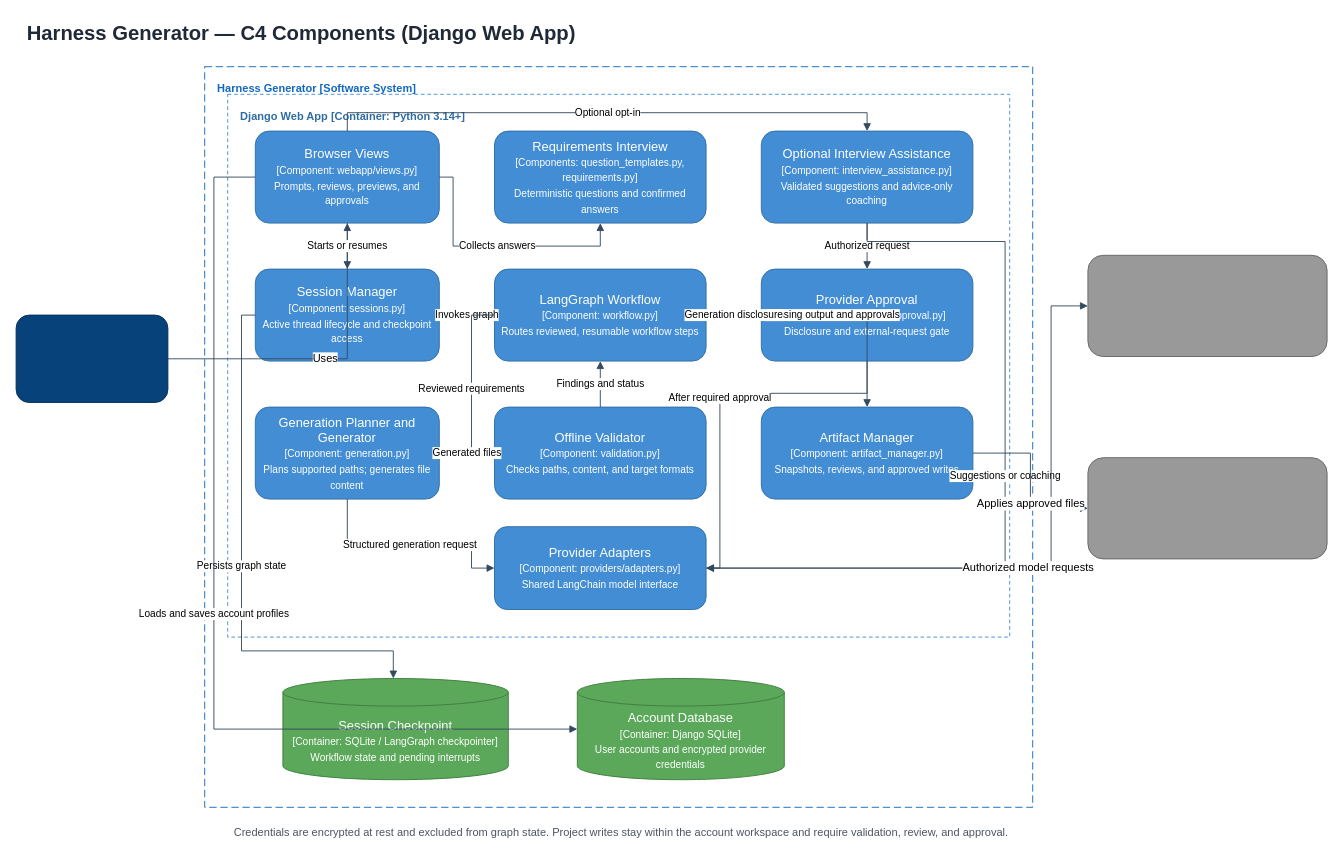
The diagram is 1343 pixels wide and 864 high, and some of its shapes have lost their labels. Here are the shapes that lost their labels. From the top down, the centre of each, then its label:
the point at 1207,305: Configured LLM Provider [External Software System]
the point at 91,358: Harness Author [Person]
the point at 1207,508: Selected Project Workspace [External System]
